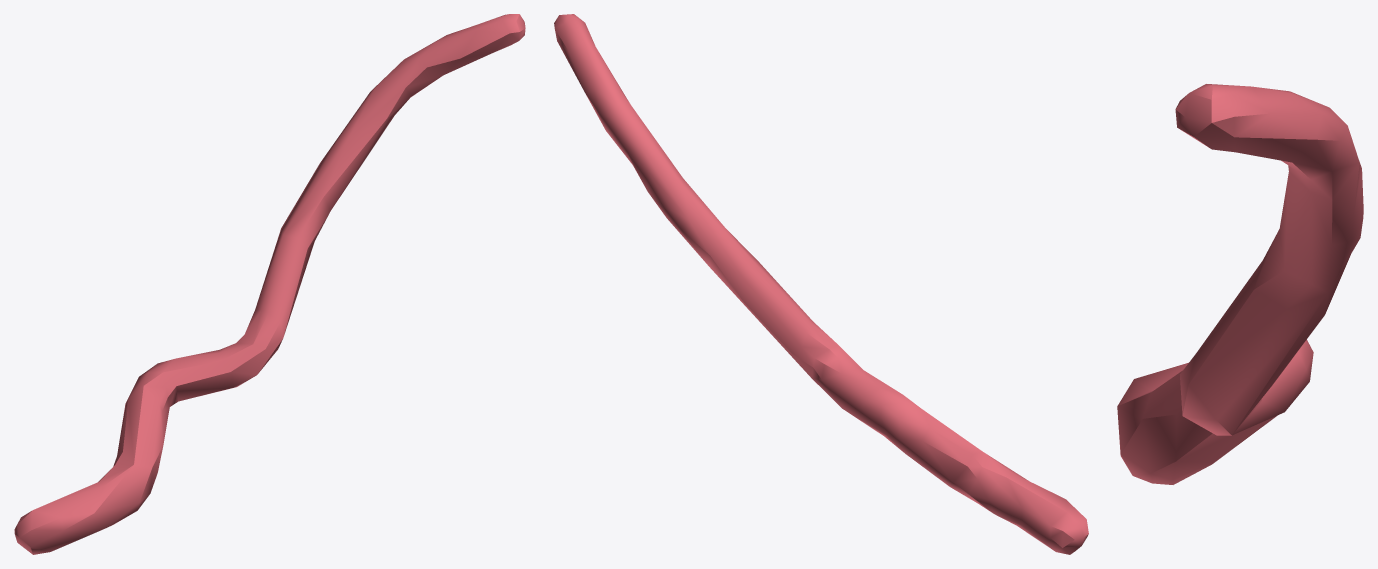
File: fma3837_fj2720.glb
The picture shows the model from 3 angles, left to right: view 1: azimuth 30°, elevation 25°; view 2: azimuth 150°, elevation 25°; view 3: azimuth 270°, elevation 25°; orthographic projection. The views are drawn at different scales.
Parts seen in each view (by area): view 1: FMA3837_FJ2720; view 2: FMA3837_FJ2720; view 3: FMA3837_FJ2720.
Part boxes in pixels (<box>): FMA3837_FJ2720: <box>14,14,525,554</box>; FMA3837_FJ2720: <box>554,14,1088,554</box>; FMA3837_FJ2720: <box>1117,84,1363,484</box>.
Bounding box in the file's own units: 0.0118 × 0.00912 × 0.00245.
